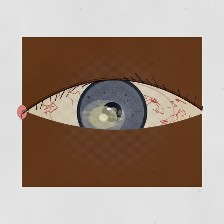corneal_ulcer: (81, 99, 126, 136)
